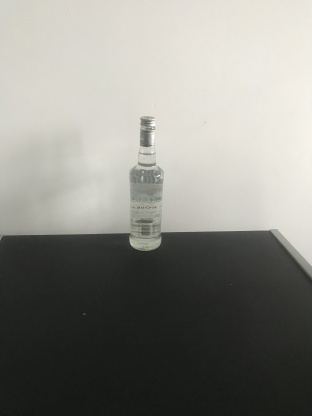nakretka: (138, 115, 156, 147)
